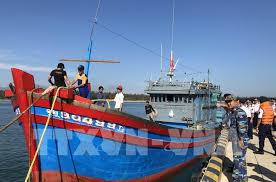tau_dansu: (5, 66, 220, 174)
